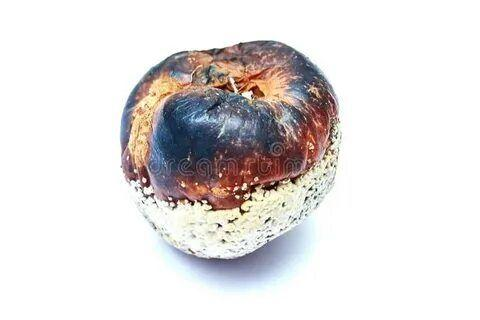Apple: (120, 42, 342, 259)
